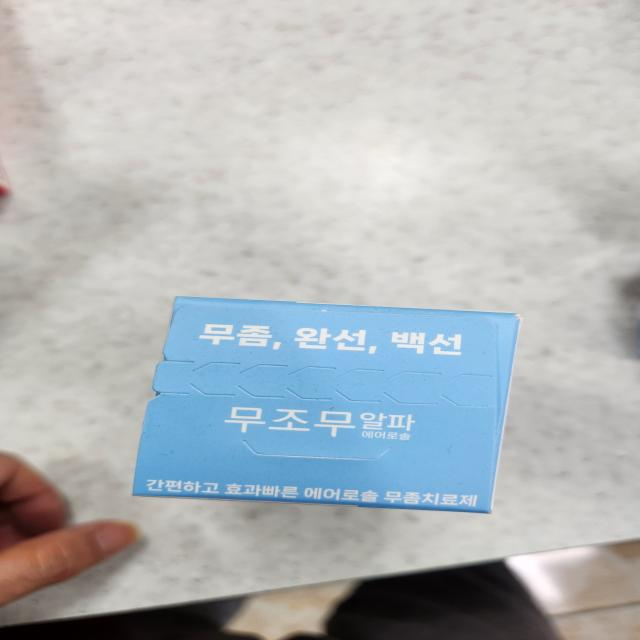box: (135, 299, 518, 512)
